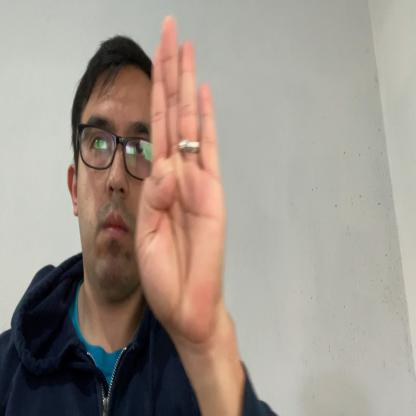B: (136, 15, 226, 339)
